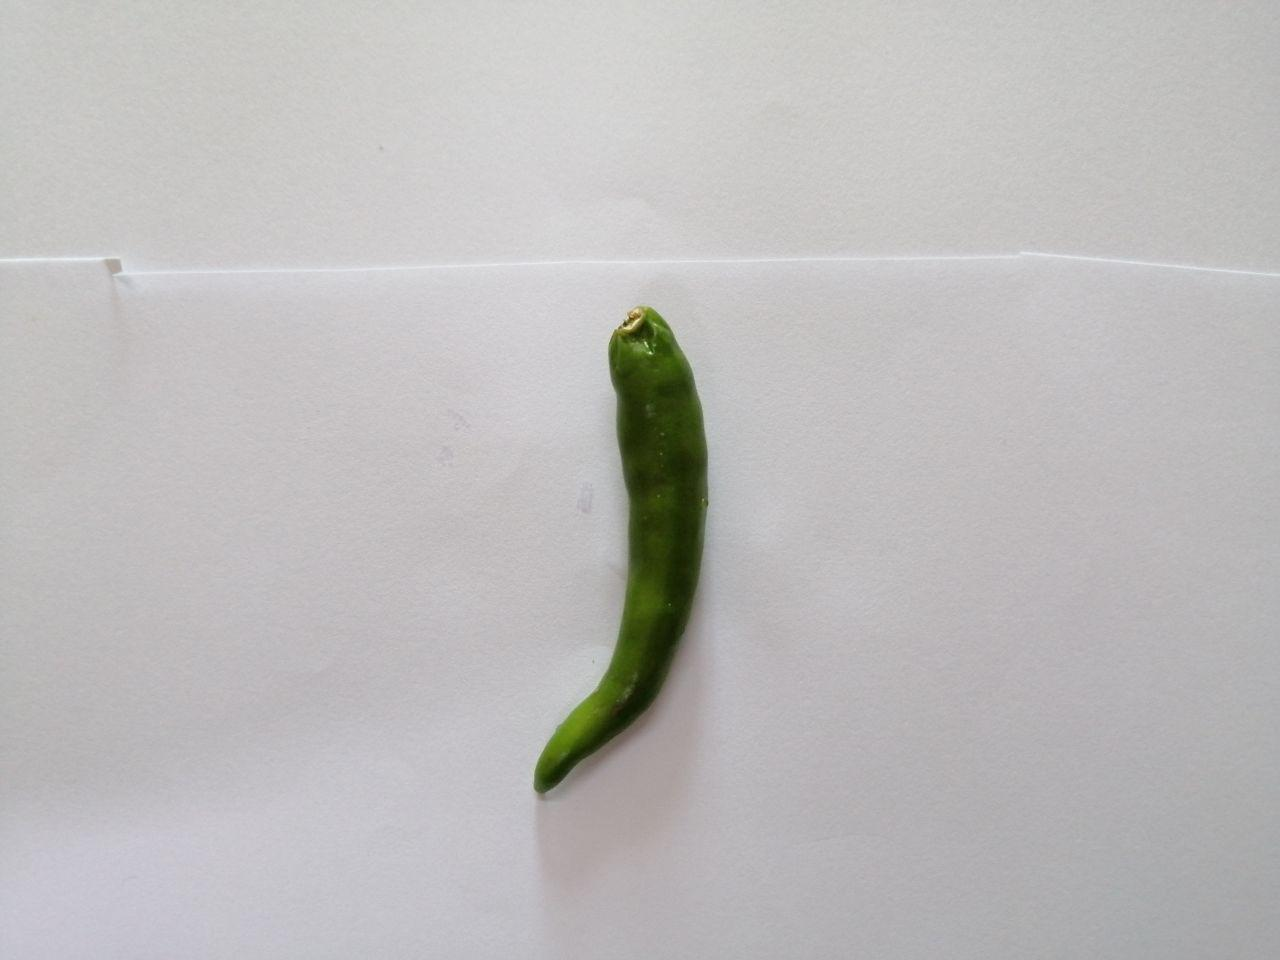lada hijau: (508, 278, 735, 827)
